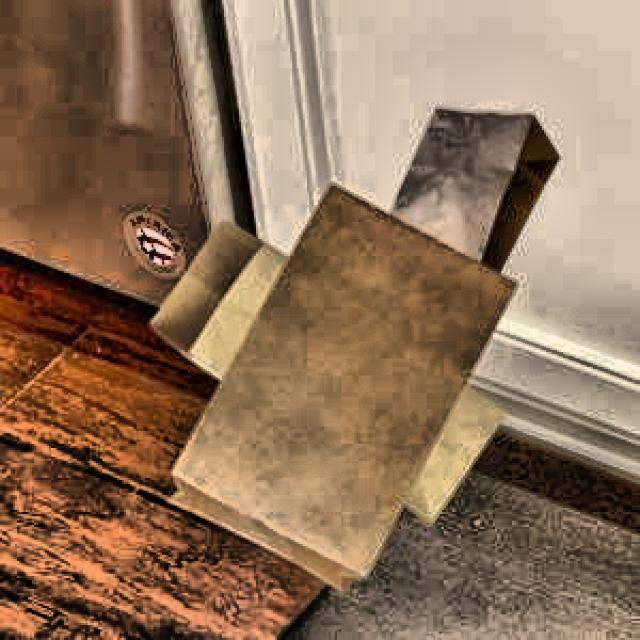Paper-bag: (148, 183, 512, 600), (124, 220, 503, 518), (368, 104, 564, 320)
